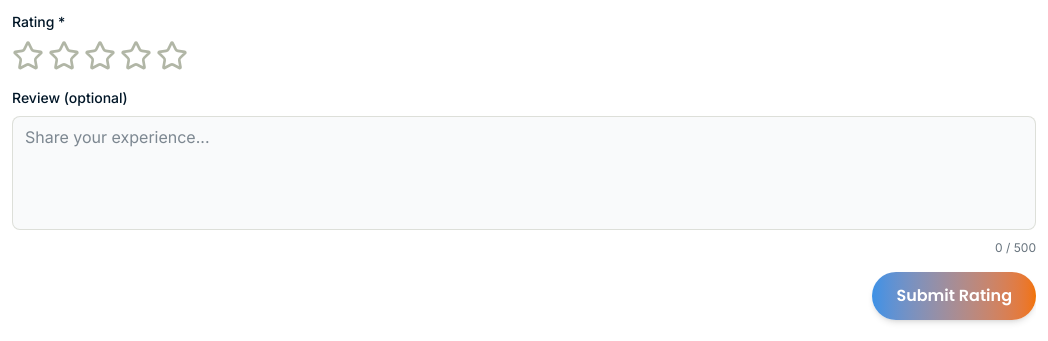
Test case: RatingForm › shows hover state on stars
The image size is (1048, 341).
Hover over the button named "Rate 4 stars" at coordinates (136, 56), box [120,40,152,72]
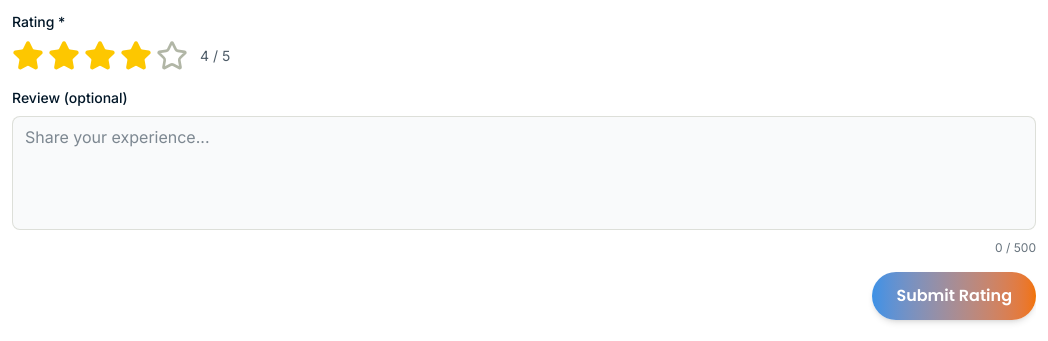
Expected: the text "4 / 5" is shown, [200,46,230,66]
